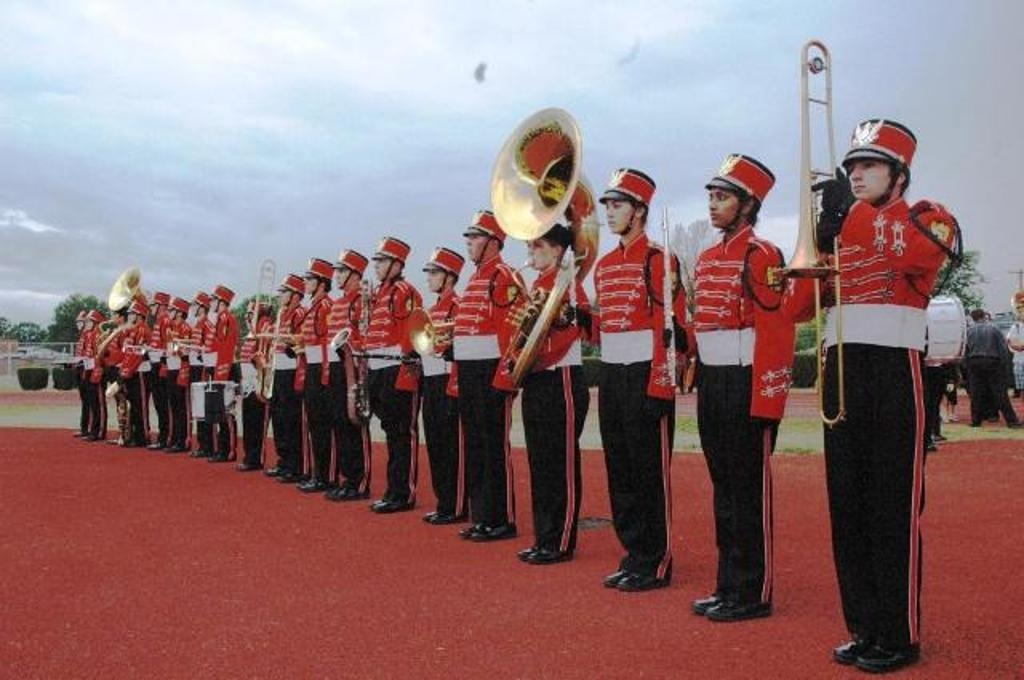human_face: (847, 153, 893, 199), (708, 186, 744, 226), (604, 198, 634, 232), (526, 238, 552, 268), (466, 233, 492, 259), (426, 268, 446, 292), (372, 257, 392, 279), (334, 266, 352, 288), (302, 271, 318, 295), (279, 289, 293, 305), (208, 295, 220, 311), (244, 311, 254, 329), (166, 304, 178, 318), (110, 310, 120, 324), (148, 303, 158, 315), (192, 302, 200, 316), (85, 317, 95, 328), (127, 312, 137, 322), (1016, 306, 1024, 318), (74, 321, 84, 330)
